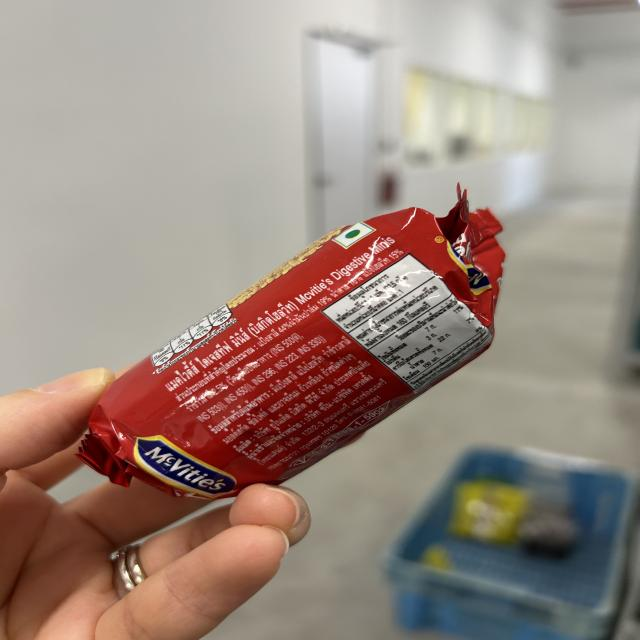object_name: (142, 215, 470, 496)
